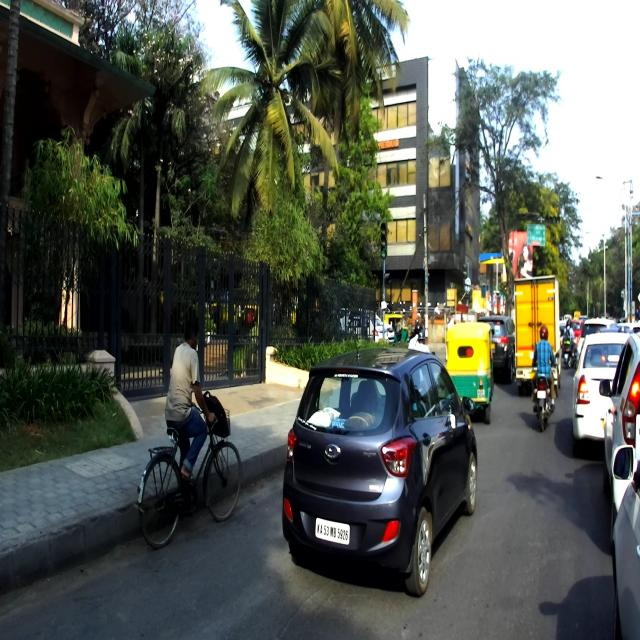Car: (605, 443, 640, 639), (576, 318, 617, 368)
Car_Hyundai: (281, 338, 478, 596)
Car_Maruti-Suzuki: (598, 333, 640, 541)
Car_Toyota: (477, 314, 515, 382)
Car_Volkswagen: (570, 333, 634, 452)
autorickshaw: (445, 323, 493, 424), (384, 314, 408, 348)
motorcycle_Hero: (529, 352, 559, 432)
truck: (514, 268, 564, 408)
